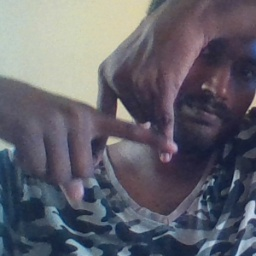H: (68, 58, 189, 167)
